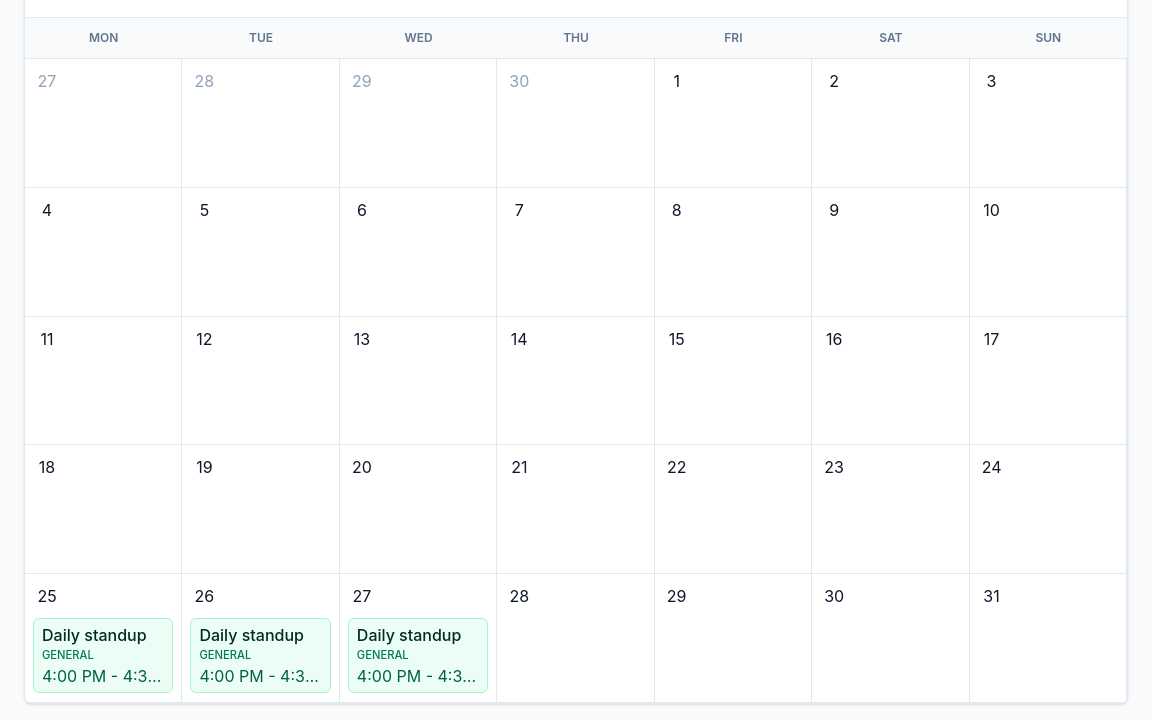
Scenario: Recurring events - integration › deleting this occurrence hides only that occurrence
The image size is (1152, 720).
(page scrolled)
Click the button with aria-label "Edit event Daily standup" at (103, 656), box [33,618,173,693]
(page scrolled)
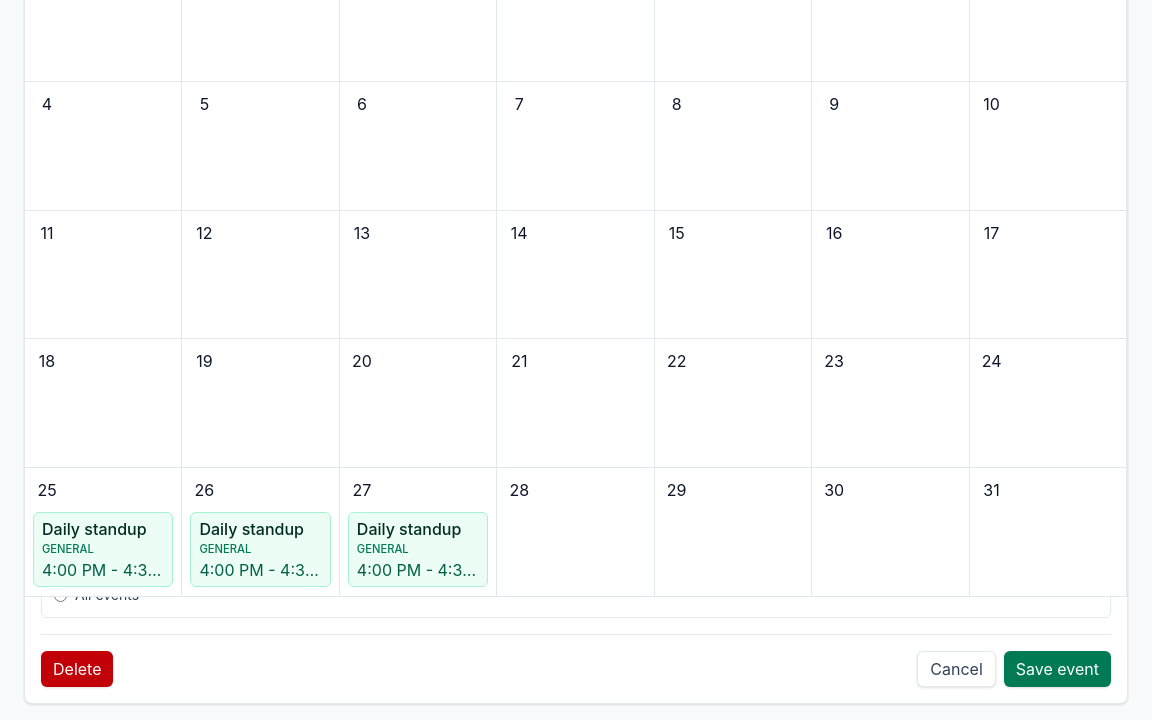
Click the button "Delete" at (77, 669), box [41,651,114,687]
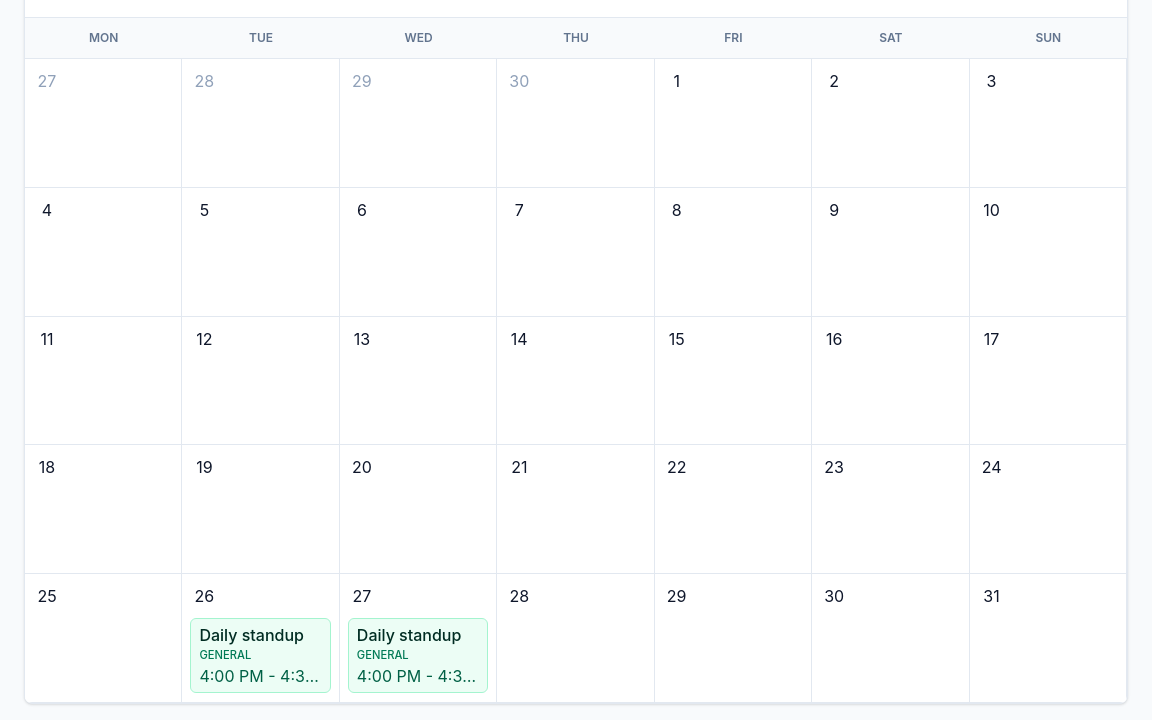
Expected: the number of buttons named "Edit event Daily standup" is 2, [190,618,331,693]; [348,618,488,693]
